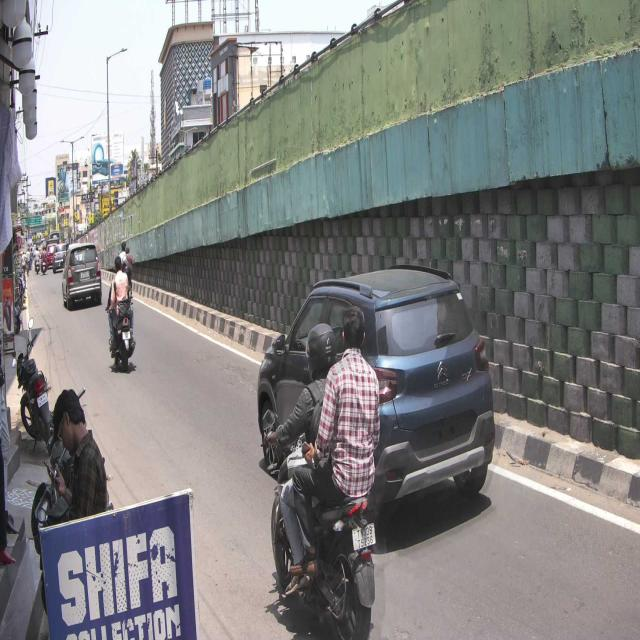double_rider: (259, 303, 382, 640)
